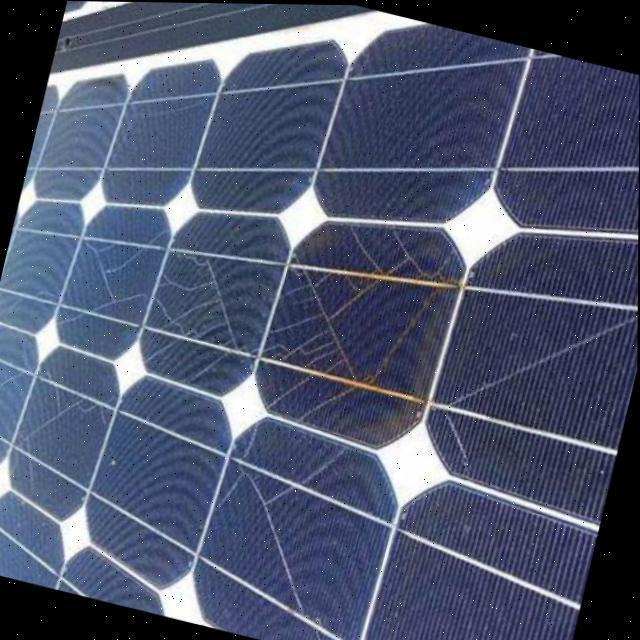Anomaly Solar Panel: (0, 8, 640, 640)
Structural Damage: (205, 443, 341, 581), (444, 309, 638, 405), (260, 253, 383, 379), (144, 244, 238, 361), (80, 228, 152, 310), (14, 375, 106, 436), (385, 227, 448, 278), (297, 443, 348, 485), (296, 382, 353, 418), (264, 368, 314, 407), (345, 221, 382, 273), (441, 406, 470, 466), (179, 297, 223, 335), (188, 347, 228, 380), (142, 335, 178, 362), (0, 360, 21, 400), (240, 422, 260, 456), (144, 224, 168, 244), (54, 310, 83, 324), (313, 625, 319, 640)
